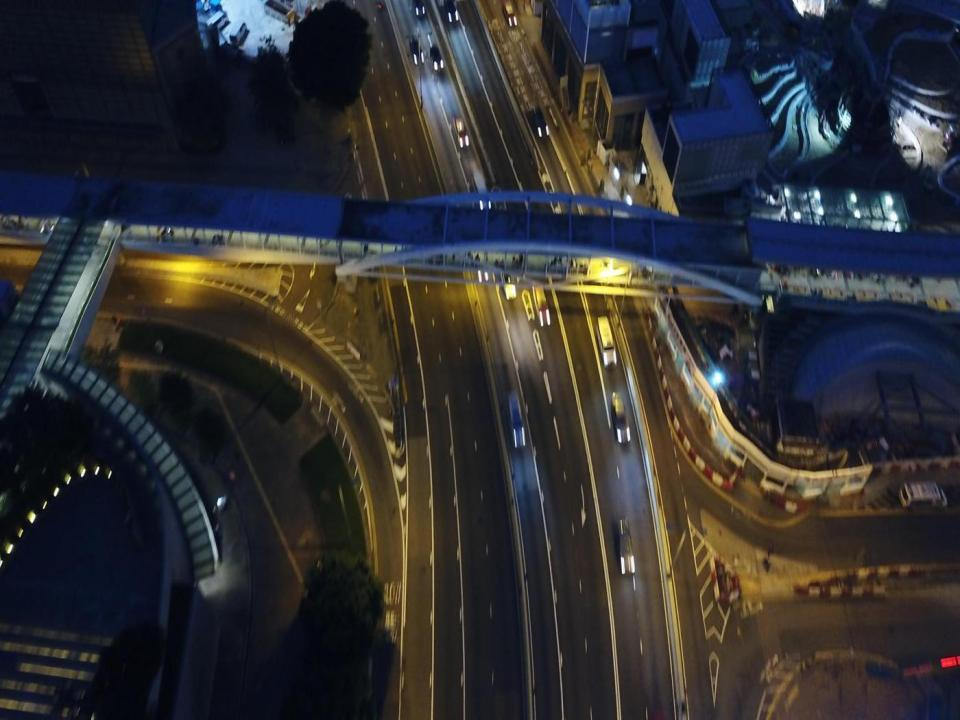car: (616, 517, 635, 575), (610, 391, 631, 443), (507, 392, 526, 448), (533, 282, 550, 326), (500, 265, 516, 300), (530, 108, 549, 137), (408, 35, 424, 65), (453, 117, 469, 146), (502, 0, 517, 26), (443, 0, 459, 22), (430, 43, 443, 69), (414, 0, 425, 16)
van: (596, 316, 616, 368), (472, 171, 491, 212)
